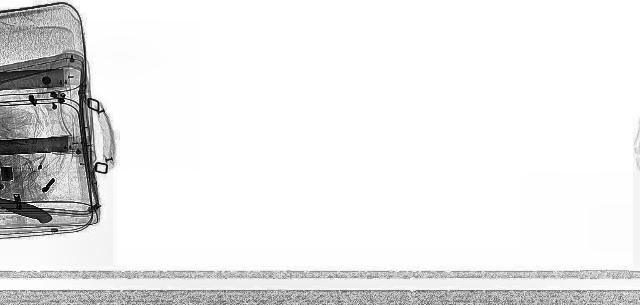Knife: (0, 199, 68, 225)
